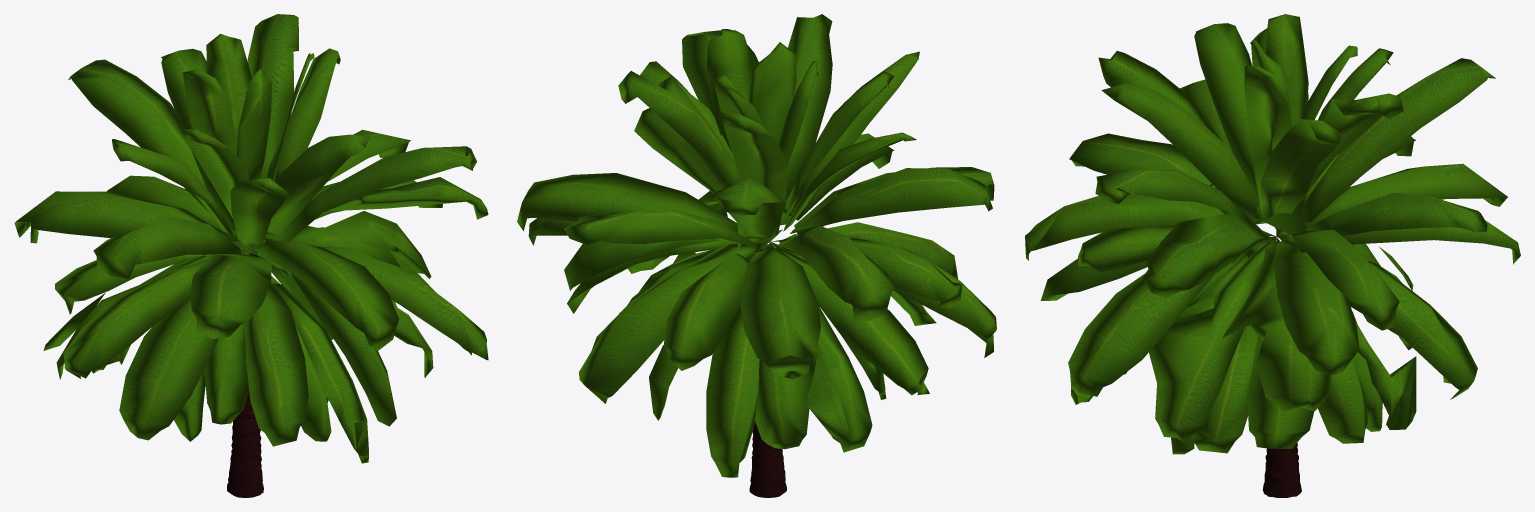
Rendered from selected.fbx.
The picture shows the model from 3 angles, left to right: view 1: azimuth 30°, elevation 25°; view 2: azimuth 150°, elevation 25°; view 3: azimuth 270°, elevation 25°; orthographic projection. The views are drawn at different scales.
Parts seen in each view (by area): view 1: tripo_node_f0e26461-1b0b-41f8-90e0-f3c866638b8a; view 2: tripo_node_f0e26461-1b0b-41f8-90e0-f3c866638b8a; view 3: tripo_node_f0e26461-1b0b-41f8-90e0-f3c866638b8a.
Boxes of the visible parts, x1,y1,x2,y2 form: tripo_node_f0e26461-1b0b-41f8-90e0-f3c866638b8a: (14,14,488,497); tripo_node_f0e26461-1b0b-41f8-90e0-f3c866638b8a: (517,14,996,497); tripo_node_f0e26461-1b0b-41f8-90e0-f3c866638b8a: (1025,14,1520,497).
Size of the model in its own units: 0.998 by 0.998 by 0.9902.
Materials: 1 (1 with a texture image).
